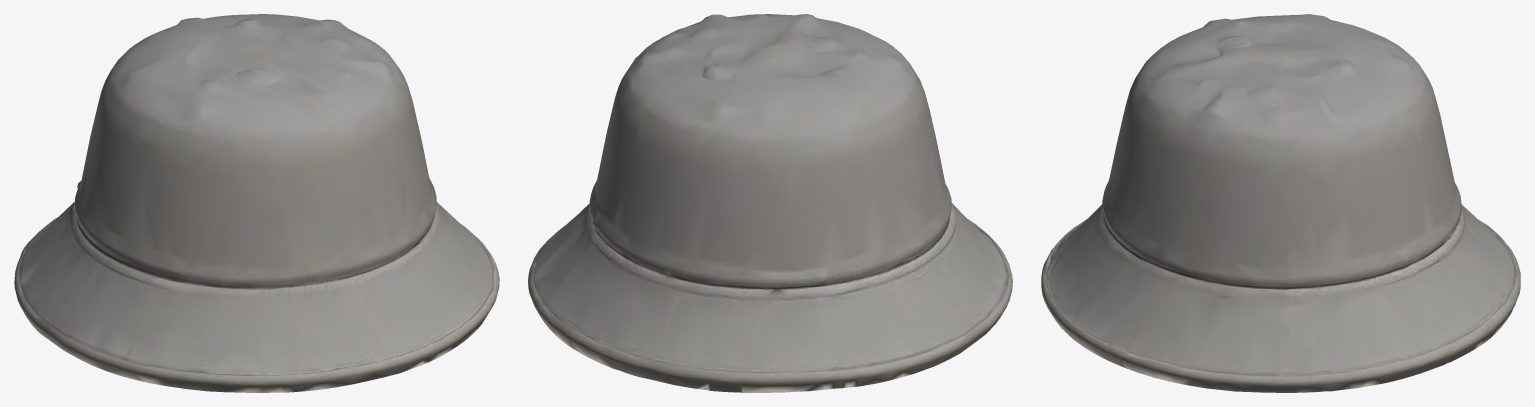
Rendered from hat_bucket.glb.
The picture shows the model from 3 angles, left to right: view 1: azimuth 30°, elevation 25°; view 2: azimuth 150°, elevation 25°; view 3: azimuth 270°, elevation 25°; orthographic projection.
Parts seen in each view (by area): view 1: tripo_node_15553147-fbed-446a-9282-b7a29919e893; view 2: tripo_node_15553147-fbed-446a-9282-b7a29919e893; view 3: tripo_node_15553147-fbed-446a-9282-b7a29919e893.
Boxes of the visible parts, x1,y1,x2,y2 form: tripo_node_15553147-fbed-446a-9282-b7a29919e893: (14,14,499,392); tripo_node_15553147-fbed-446a-9282-b7a29919e893: (528,14,1012,392); tripo_node_15553147-fbed-446a-9282-b7a29919e893: (1041,14,1520,392).
Size of the model in its own units: 0.9955 by 0.5581 by 0.9996.
Materials: 1 (1 with a texture image).
